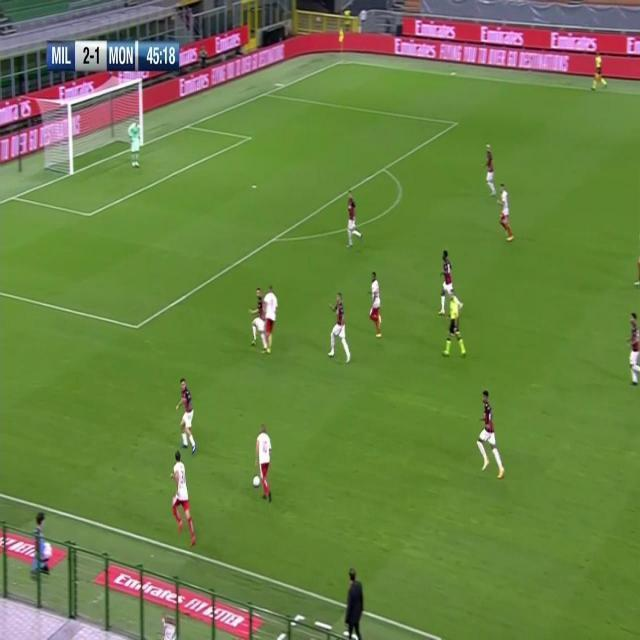ball: (252, 473, 261, 489)
goalkeeper: (128, 119, 141, 169)
player: (475, 388, 506, 480), (169, 449, 197, 548), (176, 375, 201, 455), (328, 288, 351, 363), (256, 423, 275, 501), (260, 285, 279, 354), (248, 285, 267, 352), (625, 309, 640, 392), (368, 270, 385, 343), (437, 247, 454, 317), (497, 182, 515, 244), (345, 191, 362, 251), (483, 143, 497, 198)
referee: (442, 281, 468, 359), (590, 48, 606, 94)
